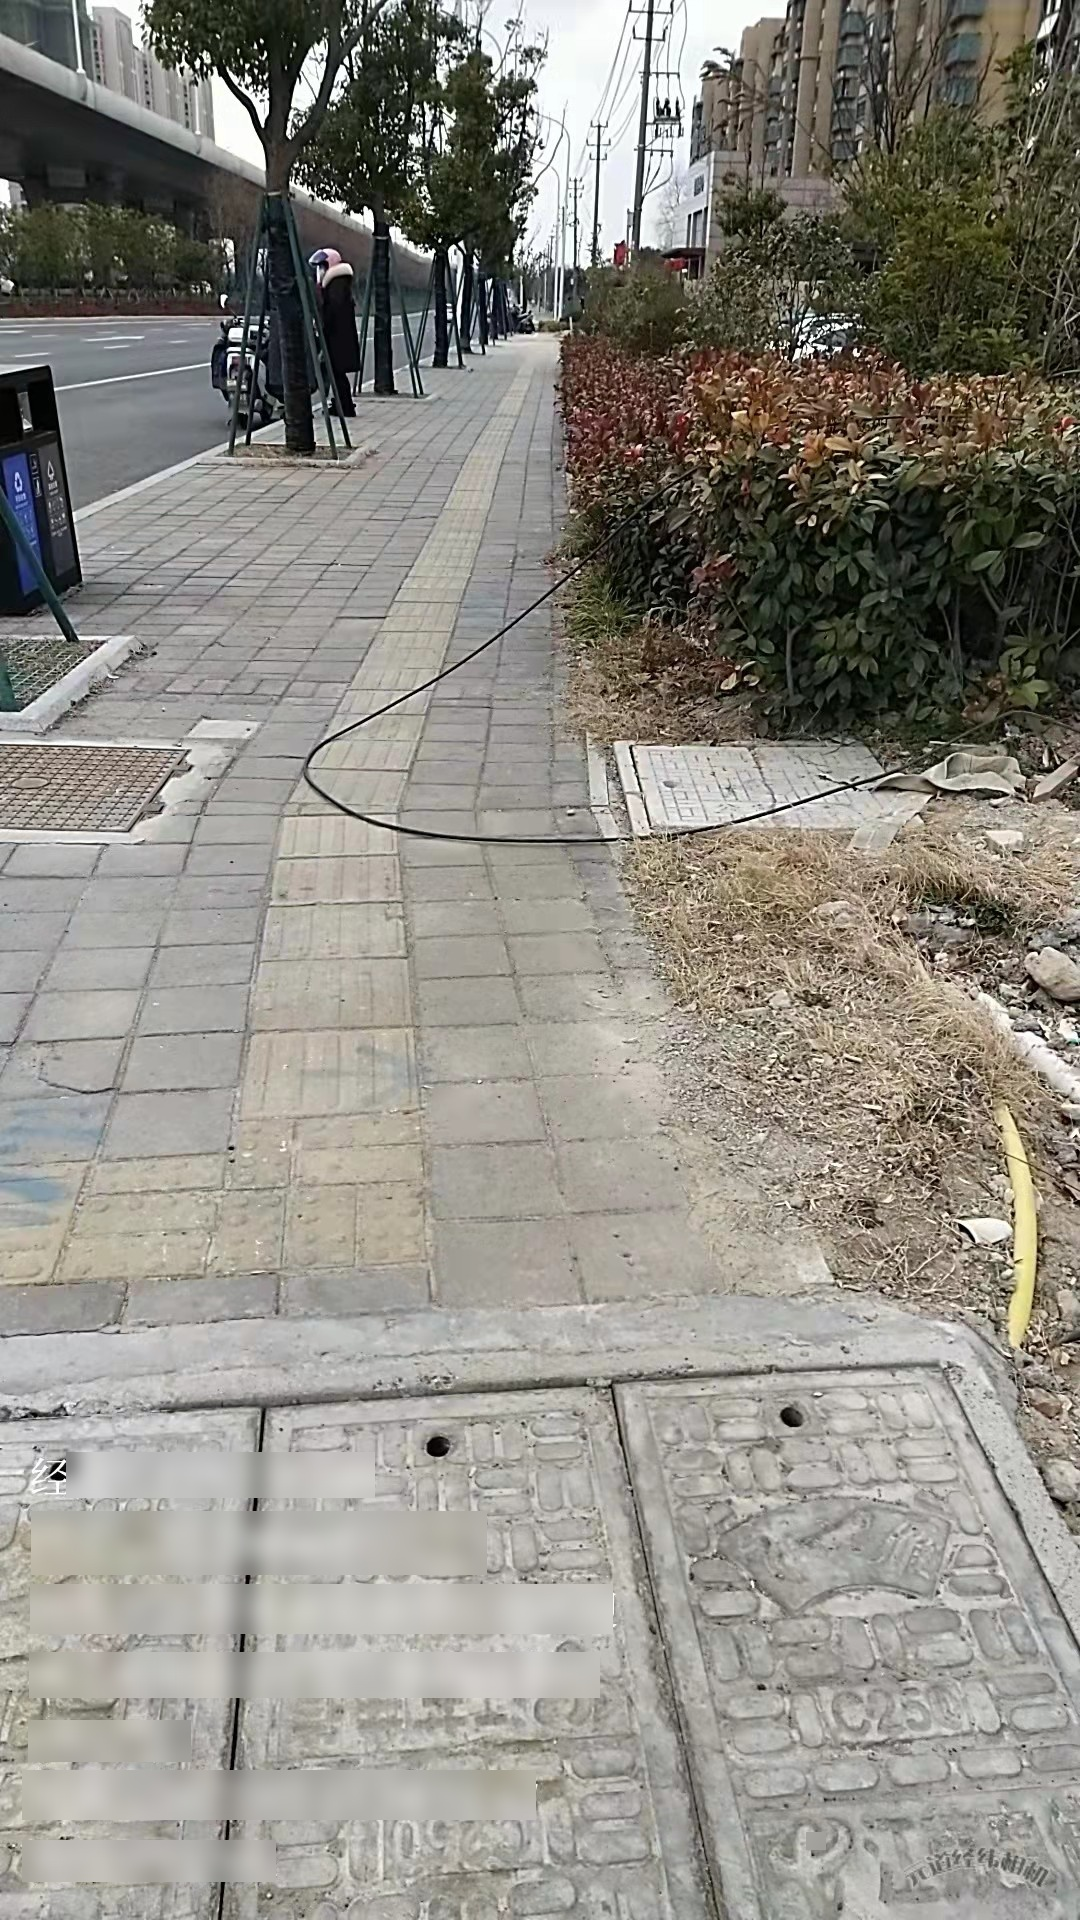good: (8, 1331, 1073, 1920), (611, 731, 932, 841), (1, 732, 204, 841)
